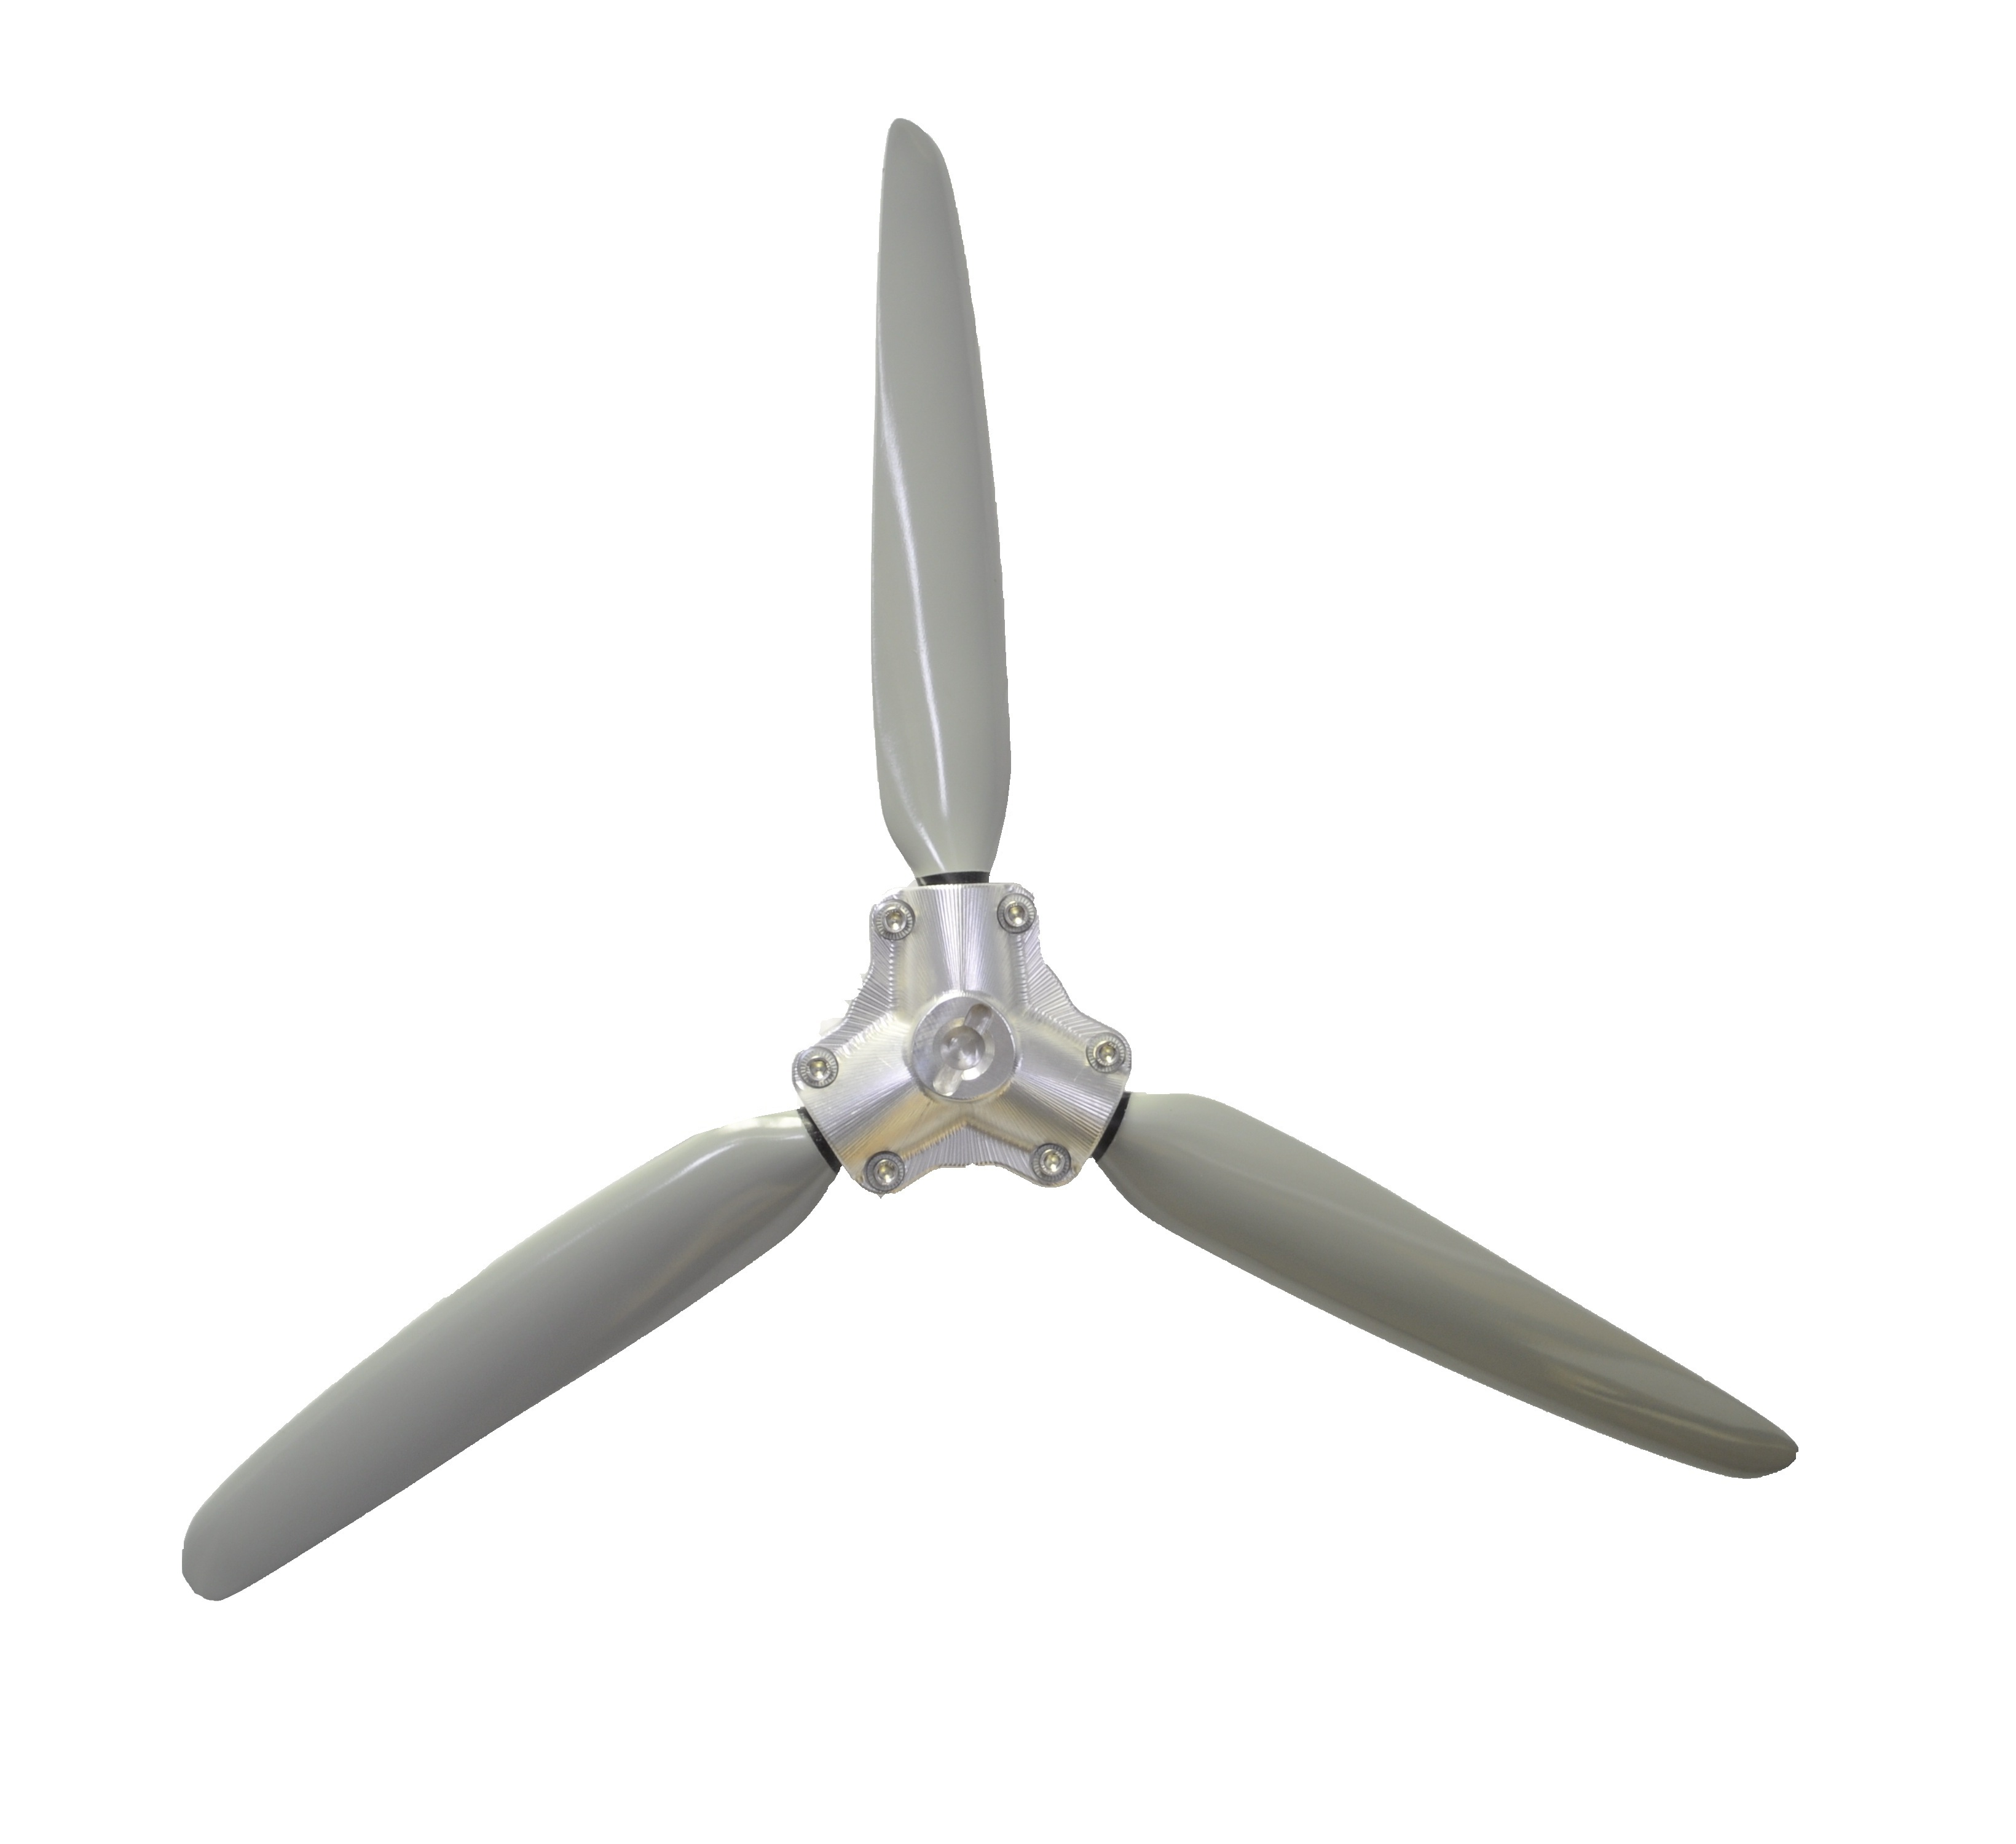Propeller: (167, 104, 1816, 1602)
